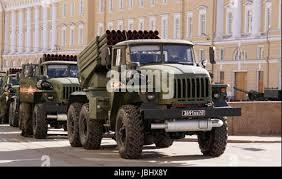MIL_SAM_TEL: (67, 28, 231, 160), (18, 52, 83, 138)
